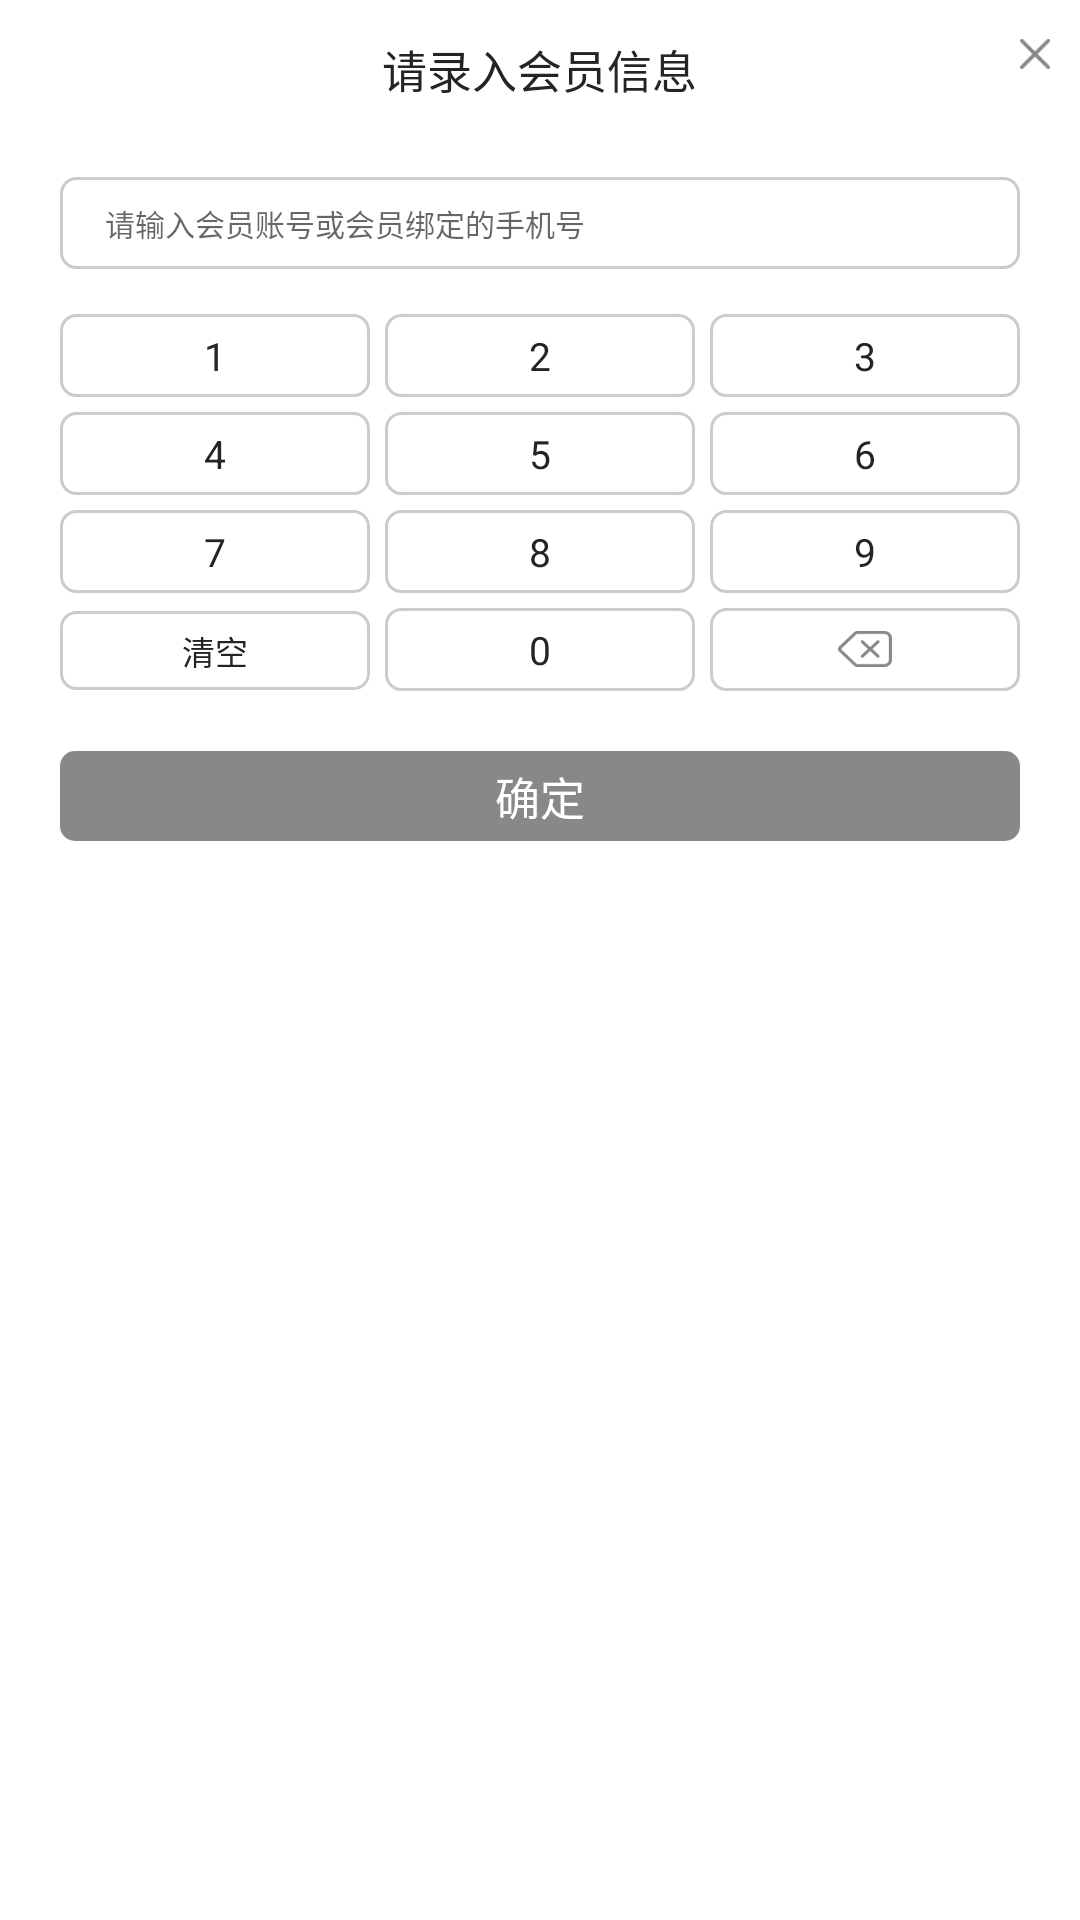

Icons on this 1080×1920 Android screen, each with its box as (x1, y1, x2, y2):
start close: (1020, 39, 1050, 69)
start delete: (838, 631, 892, 667)
